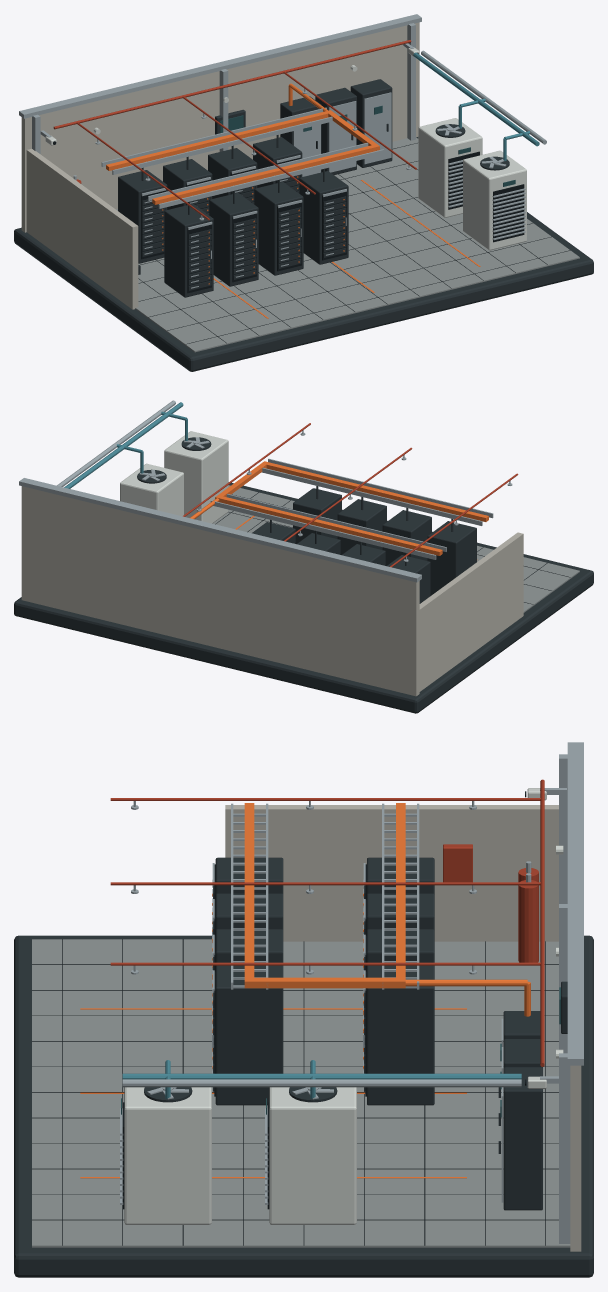
Rendered from data-centre-mobile-raw.glb.
The picture shows the model from 3 angles, top to bottom: view 1: azimuth 30°, elevation 25°; view 2: azimuth 150°, elevation 25°; view 3: azimuth 270°, elevation 25°; orthographic projection. The views are drawn at different scales.
Parts seen in each view (by area): view 1: Power, Architecture_RaisedFloor, Architecture_RearWall, Architecture_Foundation, Cooling, Architecture_LeftWall, Architecture_RearCoping, Architecture_FloorJoints, Protection, Architecture_Structure_5.85, Architecture; view 2: Architecture_RearWall, Power, Architecture_Foundation, Architecture_LeftWall, Cooling, Architecture_RearCoping, Architecture_RaisedFloor, Protection; view 3: Architecture_RaisedFloor, Power, Cooling, Architecture_LeftWall, Architecture_Foundation, Protection, Architecture_FloorJoints, Architecture_RearCoping, Architecture_Structure_5.85, Architecture_RearWall, Power_DistributionLink, Architecture_Structure_-5.85 (+4 smaller).
Part boxes in pixels (left/top/right/bottom): Power: left=101, top=79, right=392, bottom=297; Architecture_RaisedFloor: left=116, top=137, right=579, bottom=352; Architecture_RearWall: left=21, top=22, right=419, bottom=232; Architecture_Foundation: left=14, top=137, right=593, bottom=371; Cooling: left=413, top=50, right=546, bottom=250; Architecture_LeftWall: left=26, top=148, right=138, bottom=309; Architecture_RearCoping: left=19, top=14, right=421, bottom=118; Architecture_FloorJoints: left=138, top=143, right=570, bottom=344; Protection: left=53, top=40, right=416, bottom=220; Architecture_Structure_5.85: left=407, top=23, right=415, bottom=140; Architecture: left=219, top=69, right=228, bottom=151; Architecture_RearWall: left=21, top=486, right=419, bottom=696; Power: left=210, top=458, right=493, bottom=603; Architecture_Foundation: left=14, top=482, right=593, bottom=713; Architecture_LeftWall: left=419, top=532, right=523, bottom=691; Cooling: left=57, top=400, right=228, bottom=523; Architecture_RearCoping: left=19, top=478, right=421, bottom=582; Architecture_RaisedFloor: left=213, top=485, right=579, bottom=612; Protection: left=183, top=423, right=518, bottom=567; Architecture_RaisedFloor: left=32, top=939, right=570, bottom=1247; Power: left=212, top=803, right=542, bottom=1210; Cooling: left=120, top=1060, right=521, bottom=1224; Architecture_LeftWall: left=225, top=805, right=558, bottom=941; Architecture_Foundation: left=14, top=935, right=593, bottom=1277; Protection: left=110, top=779, right=544, bottom=1066; Architecture_FloorJoints: left=32, top=939, right=558, bottom=1245; Architecture_RearCoping: left=567, top=742, right=583, bottom=1065; Architecture_Structure_5.85: left=559, top=1053, right=570, bottom=1243; Architecture_RearWall: left=570, top=1065, right=581, bottom=1251; Power_DistributionLink: left=244, top=977, right=405, bottom=988; Architecture_Structure_-5.85: left=559, top=754, right=567, bottom=903.
Bounding box in the file's own units: 12.6 × 3.98 × 9.6.
